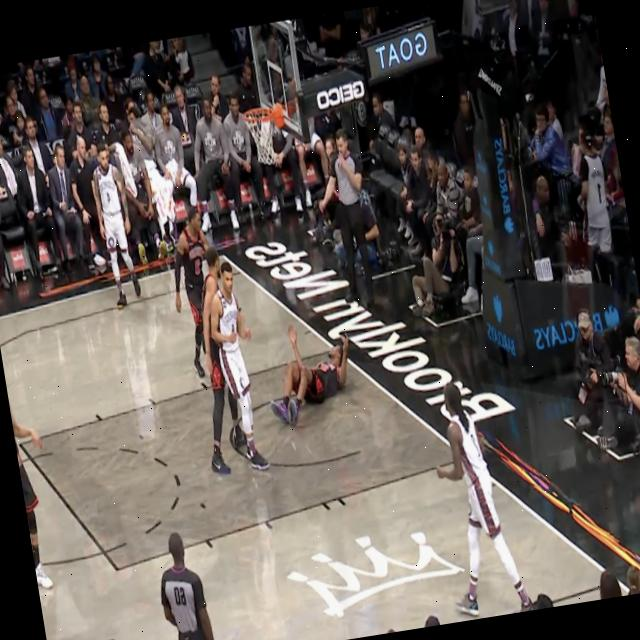foul: (170, 222, 391, 493)
